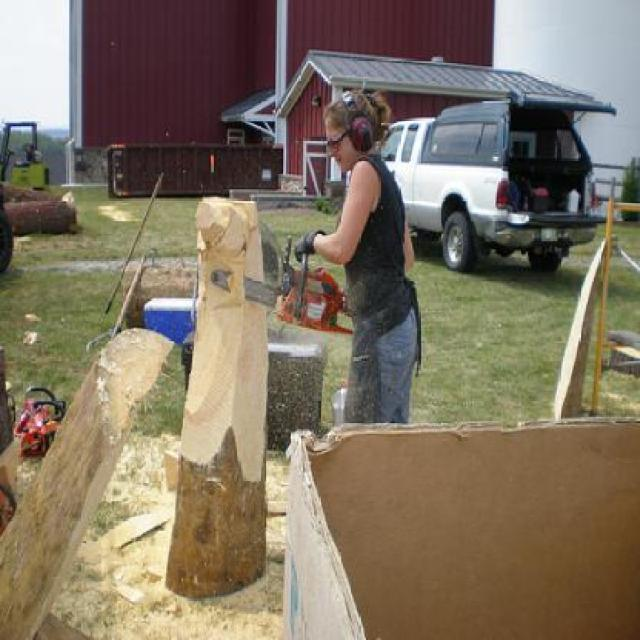Chainsaw: (208, 232, 357, 337)
